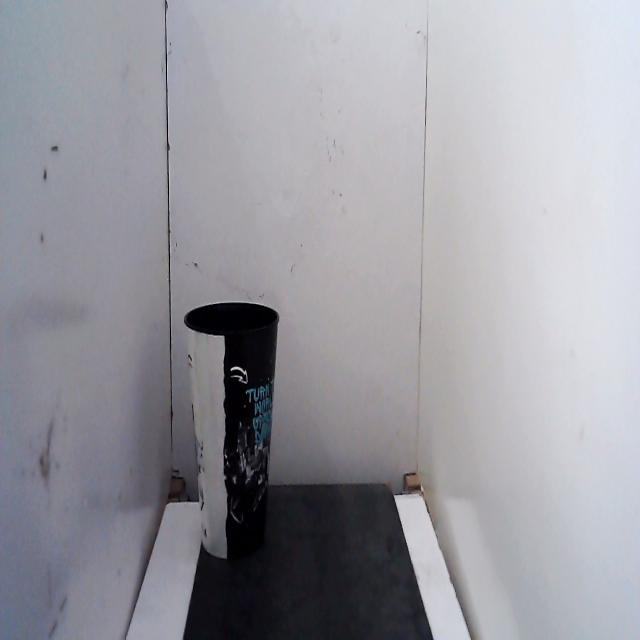plastico: (176, 284, 292, 580)
